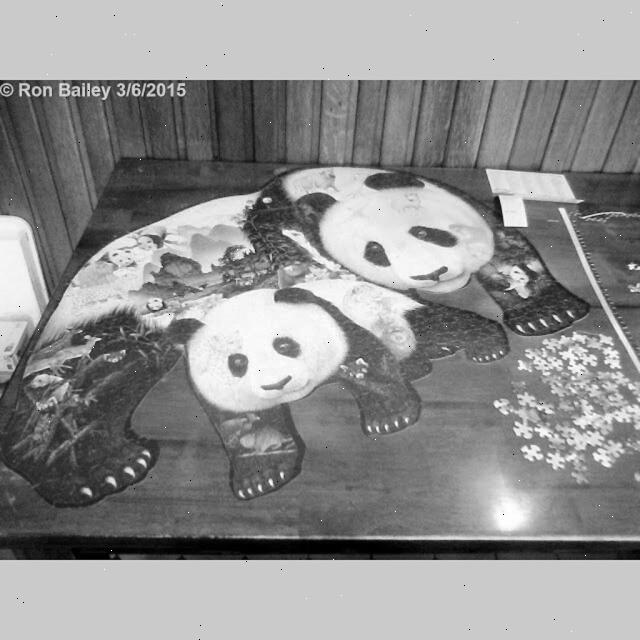panda: (0, 164, 589, 516), (161, 273, 511, 501)
